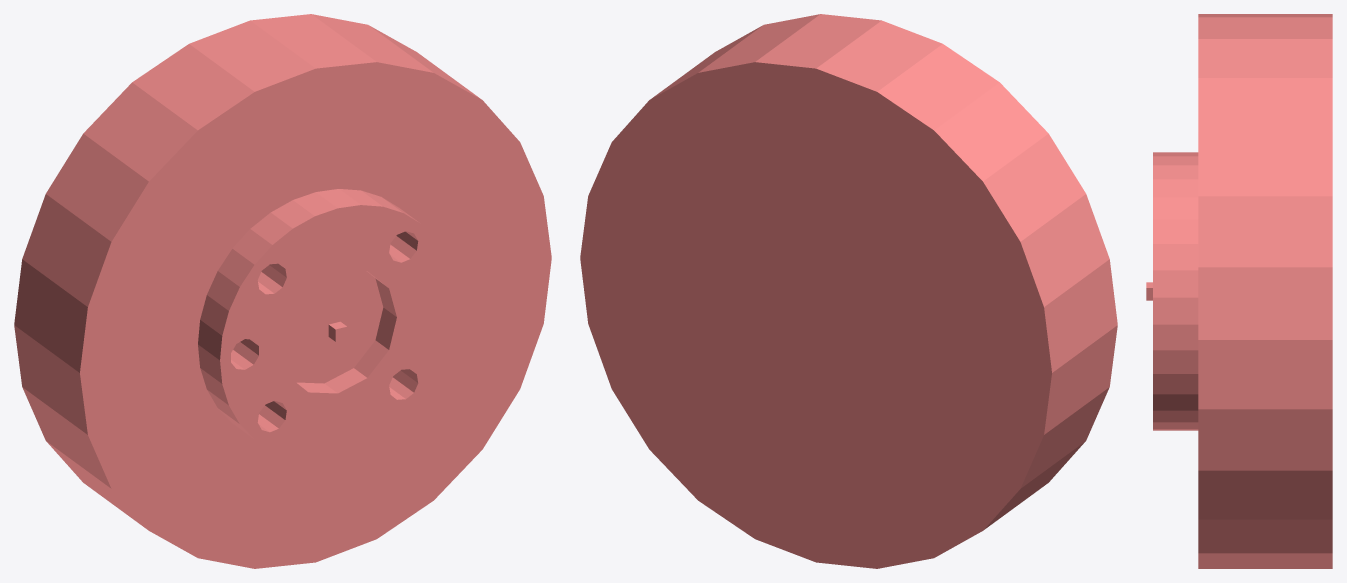
Rendered from body2_6.obj.
3 renders of one model, left to right at view 1: azimuth 30°, elevation 25°; view 2: azimuth 150°, elevation 25°; view 3: azimuth 270°, elevation 25°, orthographic. The views are drawn at different scales.
Parts seen in each view (by area): view 1: Body6; view 2: Body6; view 3: Body6.
Boxes of the visible parts, bbox=[...] form: Body6: bbox=[14, 14, 551, 568]; Body6: bbox=[580, 14, 1117, 568]; Body6: bbox=[1146, 14, 1332, 568].
Size of the model in its own units: 80 by 80 by 26.8.
